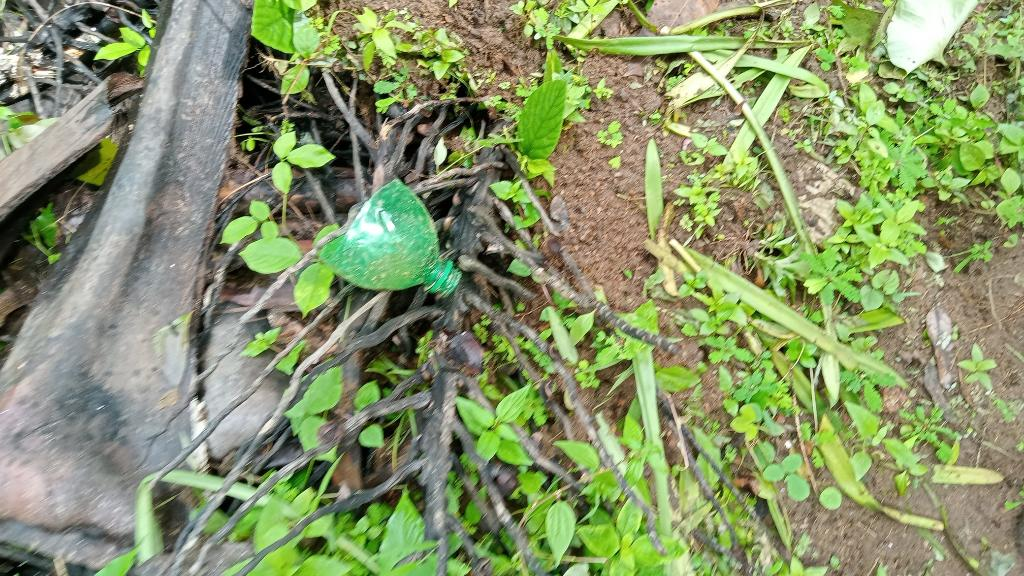garbage: (310, 160, 470, 316)
